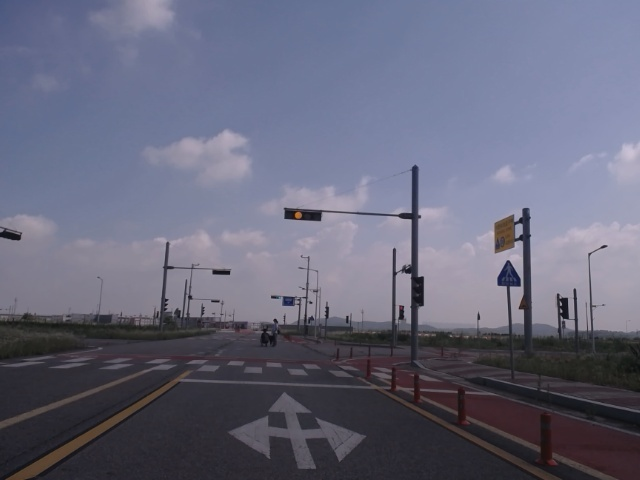orange_4: (283, 209, 321, 222)
